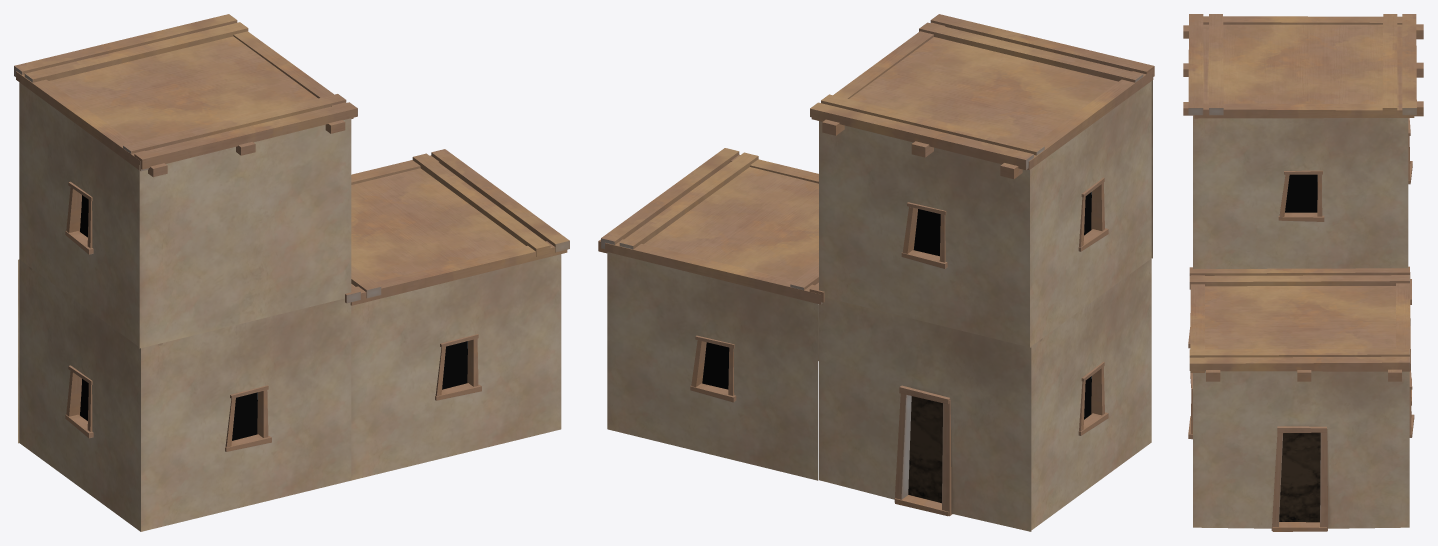
File: SM_house_6.fbx
3 renders of one model, left to right at view 1: azimuth 30°, elevation 25°; view 2: azimuth 150°, elevation 25°; view 3: azimuth 270°, elevation 25°, orthographic. The views are drawn at different scales.
Visible parts, largest first — view 1: kit1_window_wall41; view 2: kit1_window_wall41; view 3: kit1_window_wall41.
Part boxes in pixels (bbox=[...]): kit1_window_wall41: bbox=[14, 14, 569, 531]; kit1_window_wall41: bbox=[598, 14, 1154, 531]; kit1_window_wall41: bbox=[1183, 14, 1423, 531].
Bounding box in the file's own units: 9 × 7.4 × 4.82.
